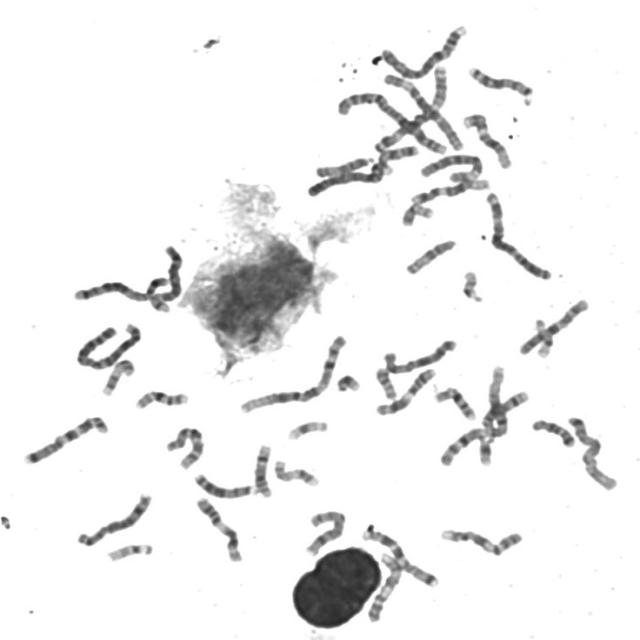A1: (234, 328, 349, 416), (434, 363, 510, 468)
A2: (333, 87, 451, 155), (72, 317, 144, 372)
A3: (370, 64, 450, 154), (479, 187, 554, 282)
B4: (376, 20, 471, 81), (304, 162, 393, 198)
B5: (68, 274, 172, 304), (148, 244, 185, 313)
C10: (515, 294, 591, 356), (161, 422, 207, 471)
C11: (190, 492, 244, 564), (372, 364, 438, 417)
C12: (458, 108, 514, 170), (410, 178, 490, 206)
C6: (381, 71, 464, 153), (419, 148, 485, 184)
C7: (356, 524, 441, 589), (18, 411, 110, 466)
C8: (71, 488, 154, 548), (302, 506, 348, 558)
C9: (362, 548, 404, 624), (435, 523, 525, 558)
D13: (464, 61, 536, 103), (190, 468, 259, 499)
D14: (476, 386, 532, 438), (250, 440, 274, 499)
D15: (401, 234, 458, 276), (310, 152, 374, 178)
E16: (430, 382, 478, 422), (130, 385, 191, 411)
E17: (270, 455, 322, 488), (98, 355, 136, 397)
E18: (527, 415, 576, 449), (377, 145, 419, 166)
F19: (282, 416, 330, 442), (530, 314, 554, 358)
F20: (396, 199, 436, 228), (371, 364, 398, 402)
G21: (474, 431, 495, 467), (332, 370, 362, 394)
G22: (102, 539, 155, 563), (457, 266, 486, 304)
X: (563, 411, 620, 493), (379, 334, 458, 375)
